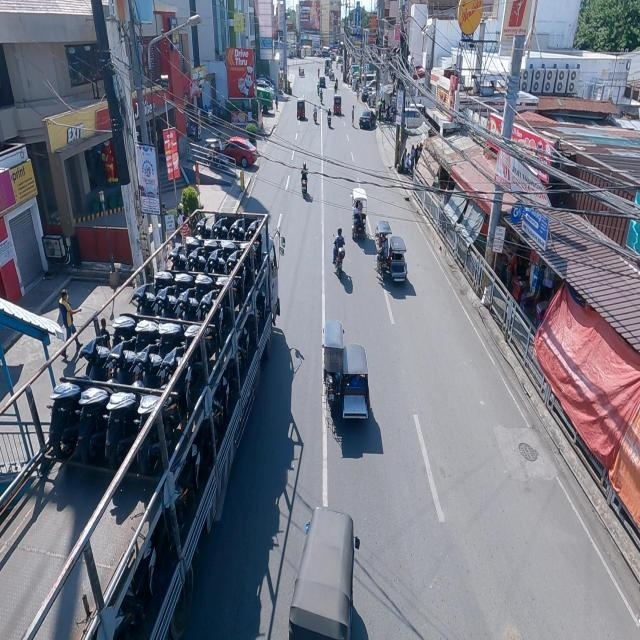Truck: (0, 196, 285, 640)
